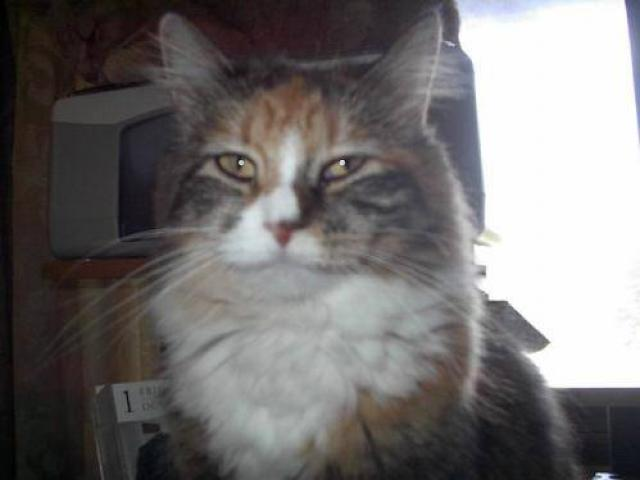cat: (85, 17, 600, 478)
